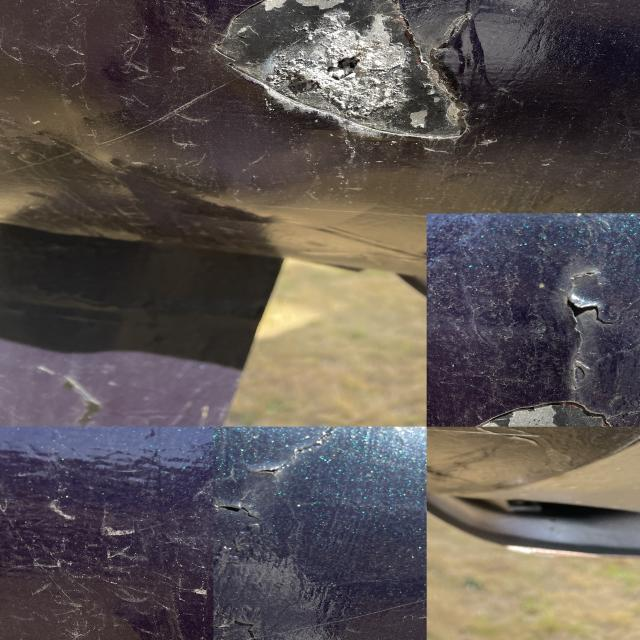crack: (549, 280, 632, 336), (242, 436, 312, 476), (215, 499, 261, 527)
dent: (204, 4, 479, 148)
